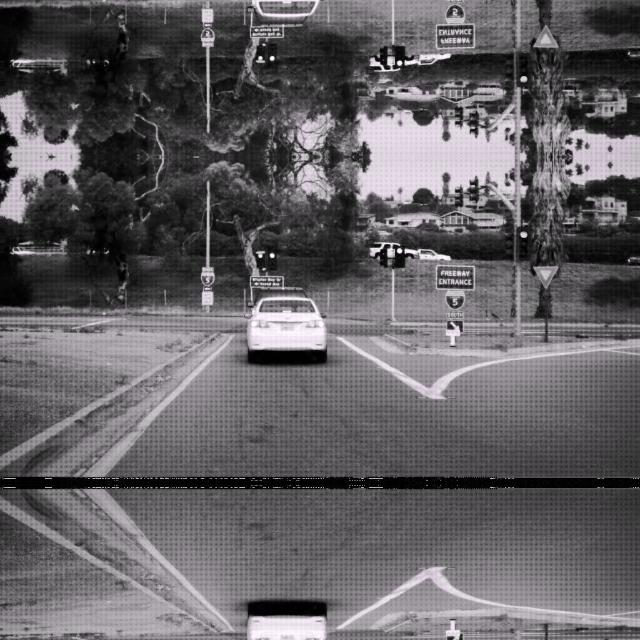yield: (532, 264, 558, 288), (532, 24, 558, 48)
